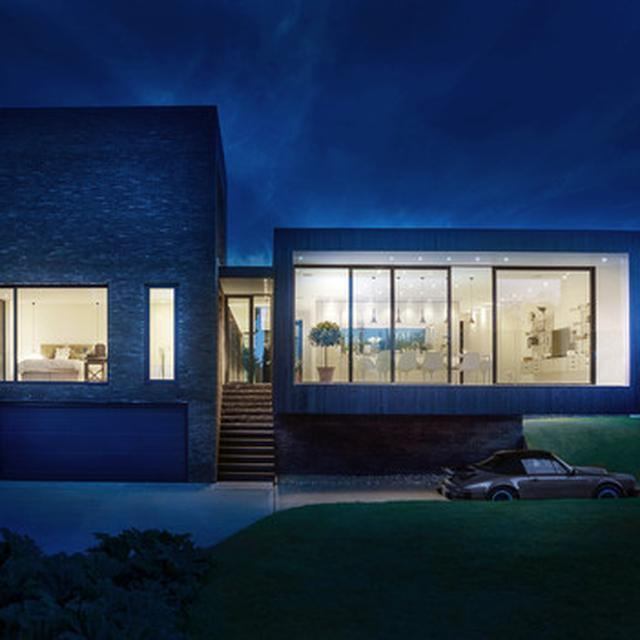building: (3, 101, 640, 476)
